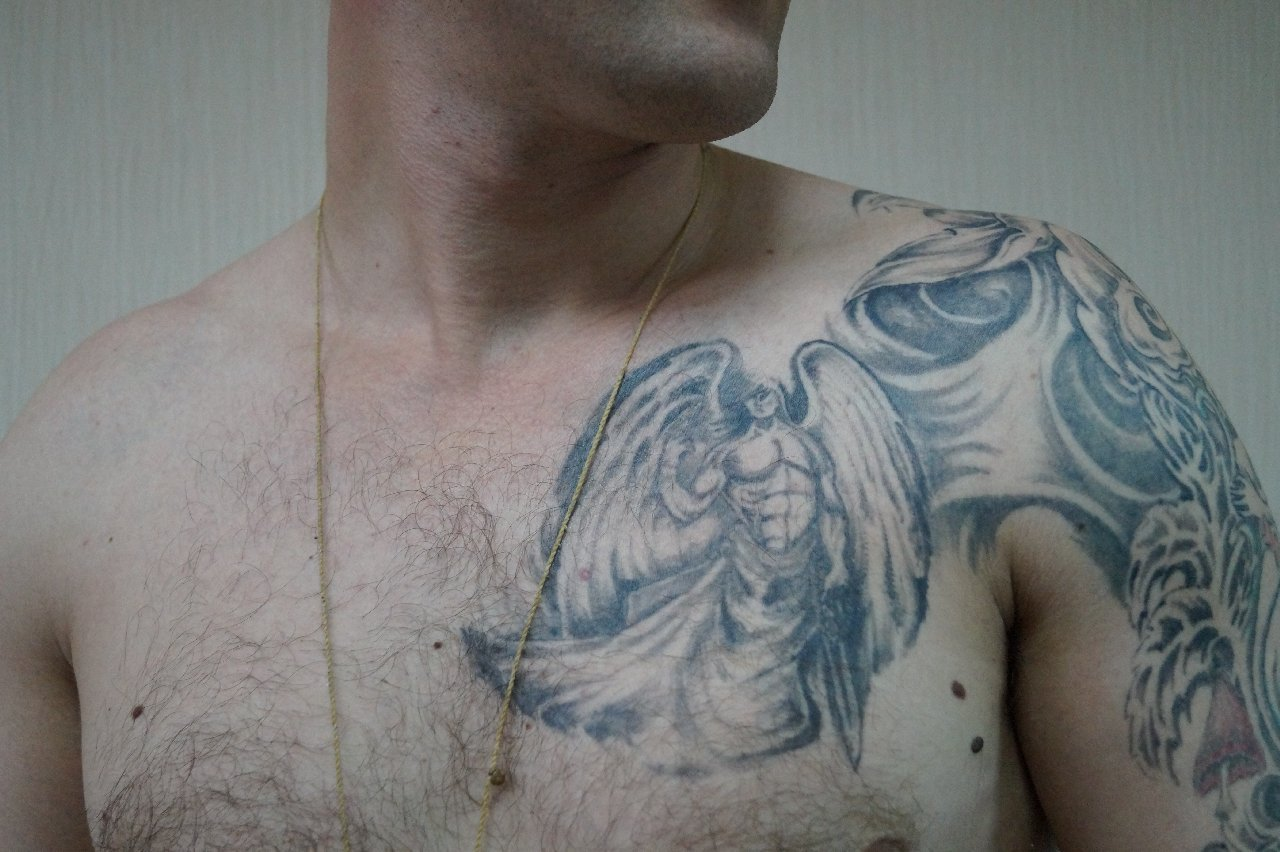tatu1_angel: (567, 259, 984, 790)
